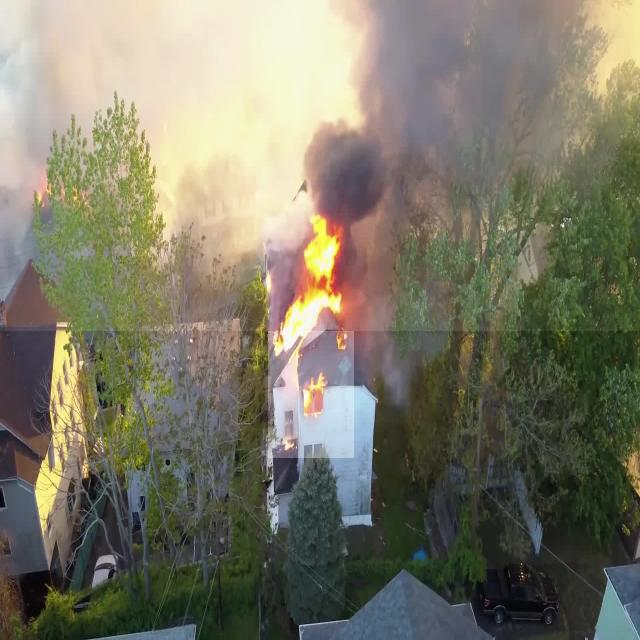Fire: (268, 203, 354, 458)
Smoke: (0, 0, 640, 331)
